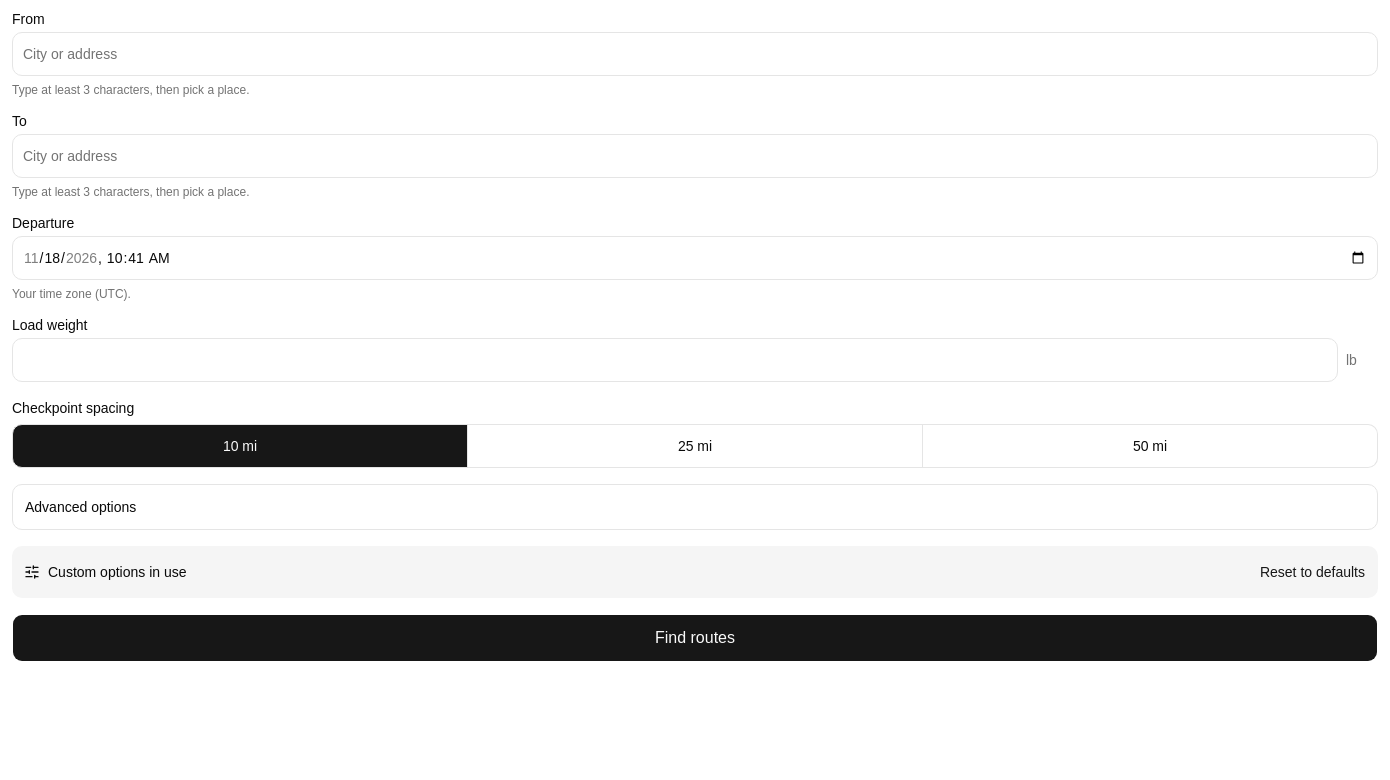
Test case: TripForm › offers a reset when an option differs from its default
Expected: the text "Custom options in use" is shown, [24, 562, 186, 582]
What coordinates should you click on to do the following:
click the button "Reset to defaults"
I would click on:
 (1312, 572)
Its box is [1259, 550, 1366, 594].
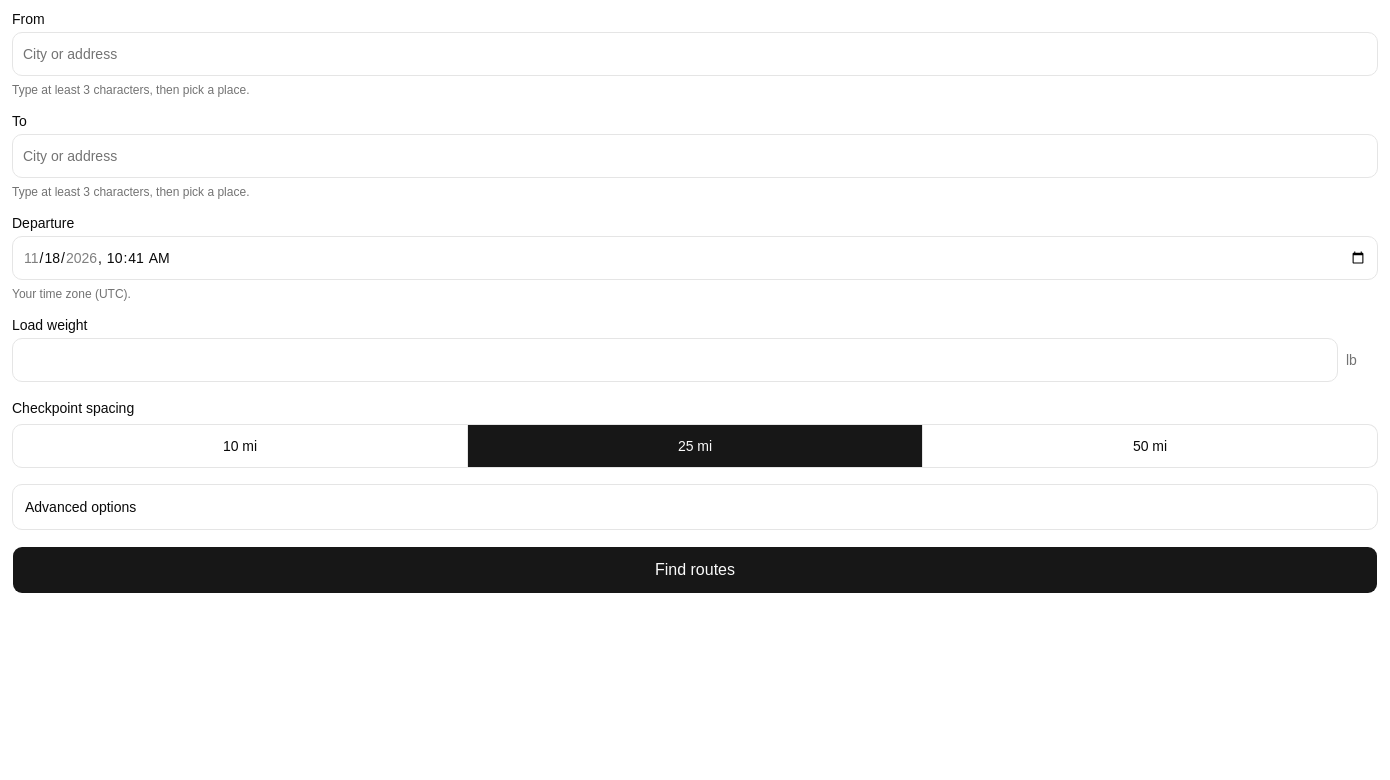
Expected: the text "Custom options in use" is gone
